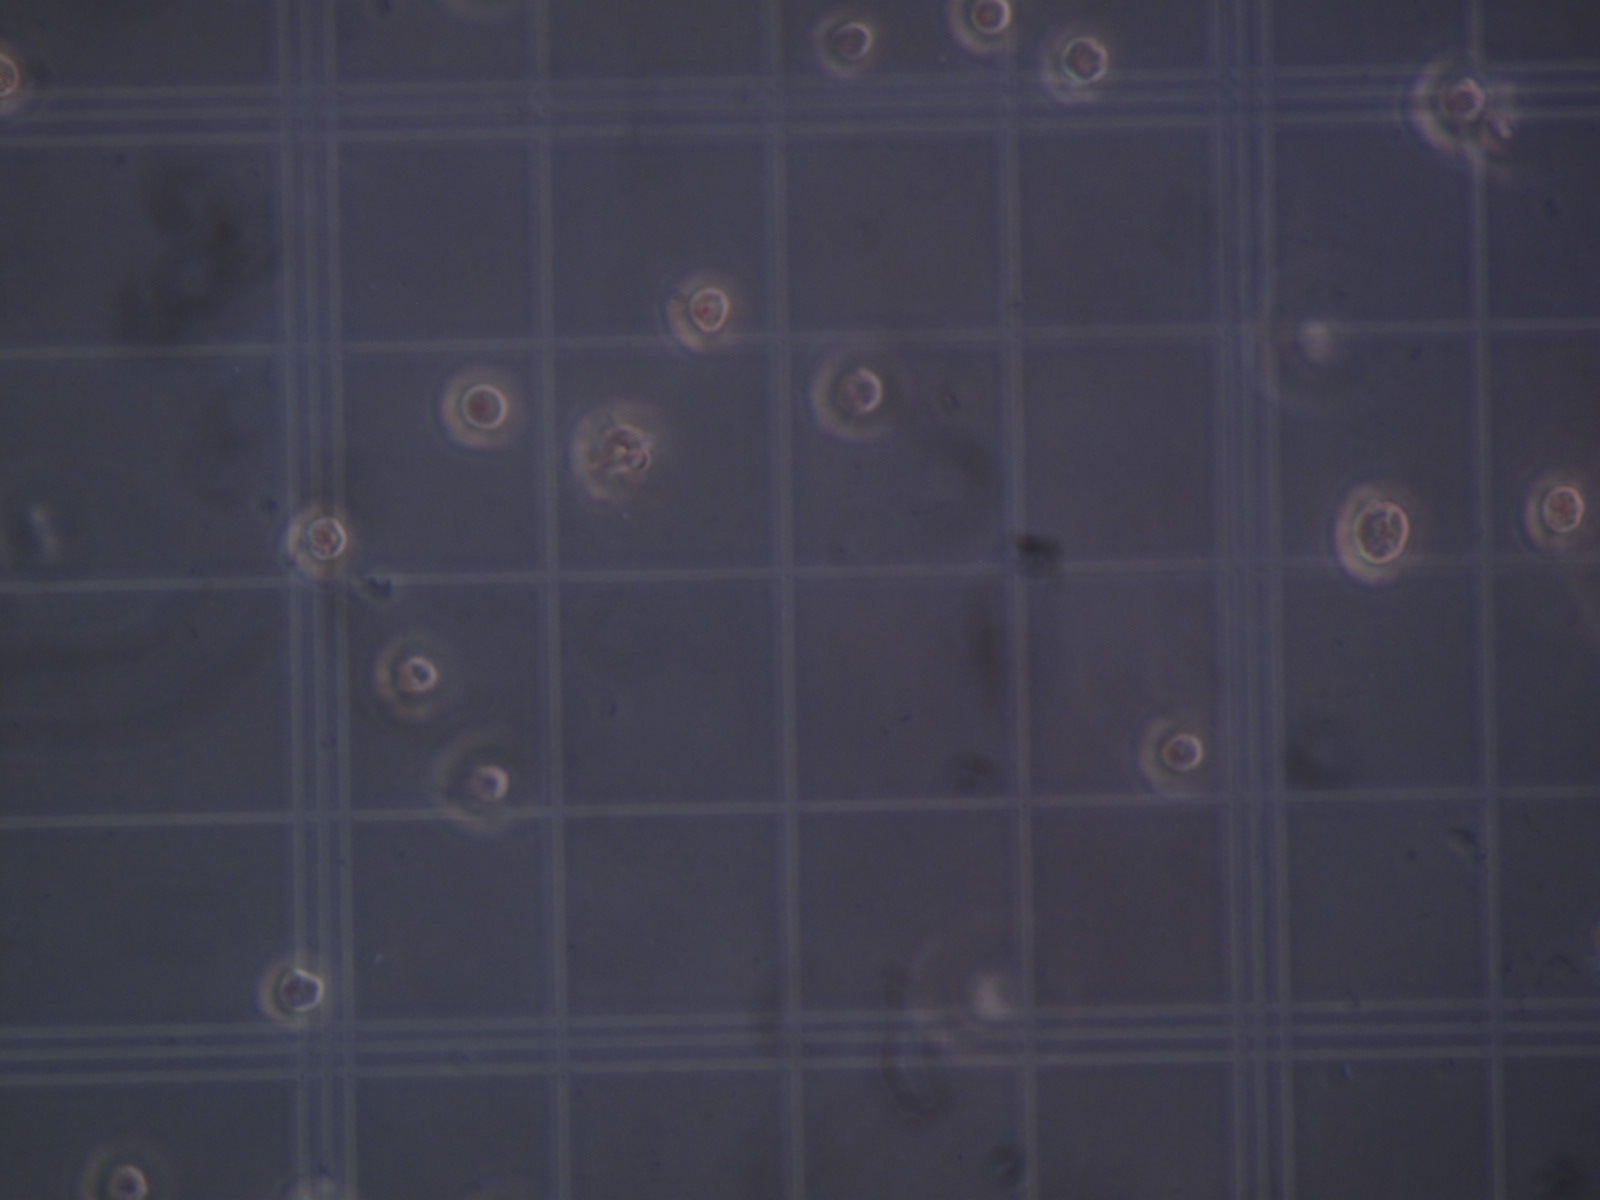hemo: (1333, 482, 1422, 582), (430, 730, 514, 834), (571, 407, 654, 500), (1409, 57, 1489, 150), (810, 350, 886, 442), (440, 366, 524, 447), (665, 272, 740, 353), (373, 634, 441, 720), (1039, 29, 1109, 105), (1138, 717, 1204, 795), (257, 957, 328, 1030), (283, 504, 350, 579), (1524, 471, 1587, 550), (78, 1141, 152, 1200), (813, 14, 876, 78), (947, 1, 1015, 54), (1, 38, 31, 118)
